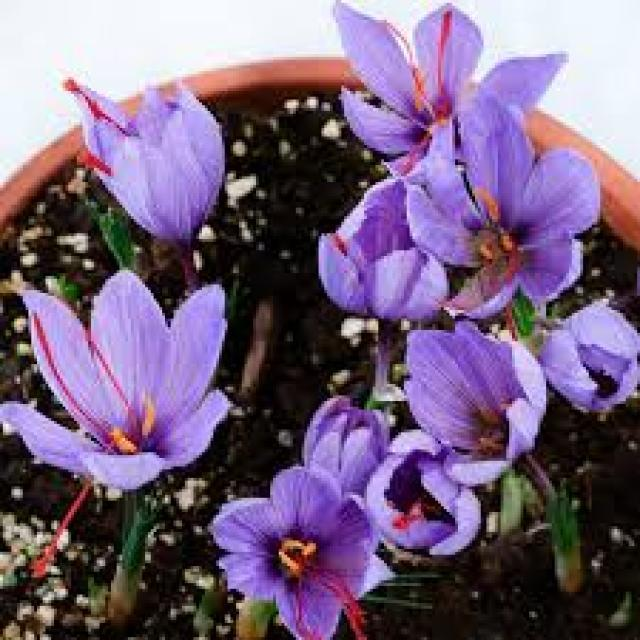Flower: (9, 267, 238, 502), (300, 0, 568, 160), (432, 104, 602, 324), (39, 66, 253, 220), (230, 466, 406, 636), (392, 319, 550, 458)
stigma: (27, 477, 96, 585), (28, 310, 90, 420), (54, 73, 142, 142), (89, 319, 140, 429), (420, 9, 468, 118), (312, 566, 366, 640), (71, 141, 120, 175), (289, 586, 308, 637)
